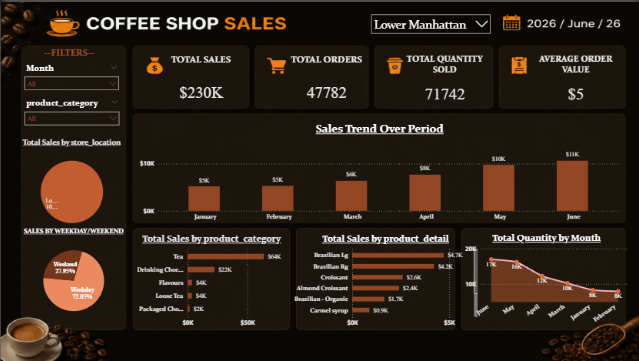

What the dashboard file says about the page in this screenshot:
{"tool":"powerbi","page":{"name":"Page 1","canvas":[1280,720],"ordinal":0},"visuals":[{"type":"card","title":"TOTAL SALES","fields":{"Values":["coffee_sales.Total Sales"]},"box":[280,83.3,240,150],"z":0},{"type":"card","title":"TOTAL ORDERS","fields":{"Values":["coffee_sales.Total Orders"]},"box":[572.2,83.7,157.5,150.1],"z":1000},{"type":"card","title":"TOTAL QUANTITY SOLD","fields":{"Values":["coffee_sales.Total Quantity"]},"box":[796.7,83.3,181.7,136.7],"z":2000},{"type":"card","title":"AVERAGE ORDER VALUE","fields":{"Values":["coffee_sales.Average Order Value"]},"box":[1056.7,83.3,185,136.7],"z":3000},{"type":"slicer","fields":{"Values":["coffee_sales.Month"]},"box":[38.1,102.1,207.9,81.2],"z":4000},{"type":"pieChart","title":"SALES BY WEEKDAY/WEEKEND","fields":{"Category":["coffee_sales.WeekdayWeekend"],"Y":["coffee_sales.Total Sales"]},"box":[25.8,441.7,223.9,212.9],"z":5000},{"type":"slicer","fields":{"Values":["coffee_sales.product_category"]},"box":[38.1,172.3,209.2,75.1],"z":7000},{"type":"textbox","box":[71.9,83.6,130.6,38.2],"z":8000},{"type":"clusteredColumnChart","title":"Sales Trend Over Period","fields":{"Category":["coffee_sales.transaction_date.Variation.Date Hierarchy.Month"],"Y":["coffee_sales.Total Sales"]},"box":[271.9,220.3,969.6,221.5],"z":9000},{"type":"pieChart","fields":{"Category":["coffee_sales.store_location"],"Y":["coffee_sales.Total Sales"]},"box":[30.8,251,223.9,217.8],"z":10000},{"type":"clusteredBarChart","fields":{"Category":["coffee_sales.product_category"],"Y":["coffee_sales.Total Sales"]},"box":[254.7,441.7,334.7,212.9],"z":11000},{"type":"clusteredBarChart","fields":{"Category":["coffee_sales.product_detail"],"Y":["coffee_sales.Total Sales"]},"box":[580.8,441.7,377.7,212.9],"z":12000},{"type":"areaChart","fields":{"Category":["coffee_sales.Month"],"Y":["coffee_sales.Total Quantity"]},"box":[921.2,440.8,336,214.6],"z":13000},{"type":"slicer","fields":{"Values":["coffee_sales.store_location"]},"box":[729.7,0,258.4,102.1],"z":13001}]}

Visuals, with their boxes in screenshot pixels (x1, y1, x2, y2), scaled from the page's 1280x720 canvas onto the 639x361 screenshot:
"TOTAL SALES" card: BBox(140, 42, 260, 117)
"TOTAL ORDERS" card: BBox(286, 42, 364, 117)
"TOTAL QUANTITY SOLD" card: BBox(398, 42, 488, 110)
"AVERAGE ORDER VALUE" card: BBox(528, 42, 620, 110)
slicer - coffee_sales.Month: BBox(19, 51, 123, 92)
"SALES BY WEEKDAY/WEEKEND" pieChart: BBox(13, 221, 125, 328)
slicer - coffee_sales.product_category: BBox(19, 86, 123, 124)
textbox: BBox(36, 42, 101, 61)
"Sales Trend Over Period" clusteredColumnChart: BBox(136, 110, 620, 222)
pieChart - coffee_sales.store_location x coffee_sales.Total Sales: BBox(15, 126, 127, 235)
clusteredBarChart - coffee_sales.product_category x coffee_sales.Total Sales: BBox(127, 221, 294, 328)
clusteredBarChart - coffee_sales.product_detail x coffee_sales.Total Sales: BBox(290, 221, 479, 328)
areaChart - coffee_sales.Month x coffee_sales.Total Quantity: BBox(460, 221, 628, 329)
slicer - coffee_sales.store_location: BBox(364, 0, 493, 51)
